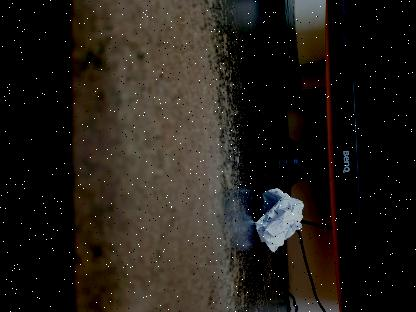Others: (248, 188, 304, 252)
